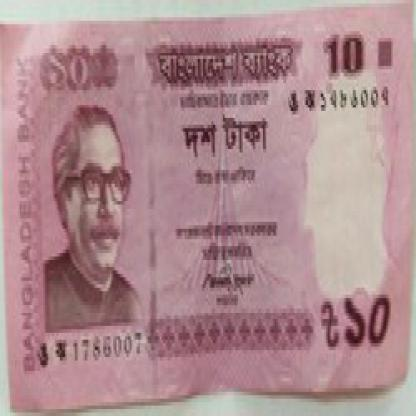Ten Taka: (341, 284, 394, 354), (42, 49, 104, 97), (320, 24, 372, 80)
